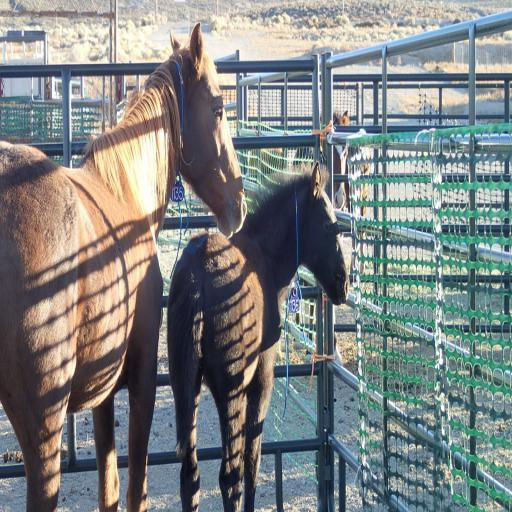horse: (0, 15, 250, 511), (164, 152, 352, 512)
